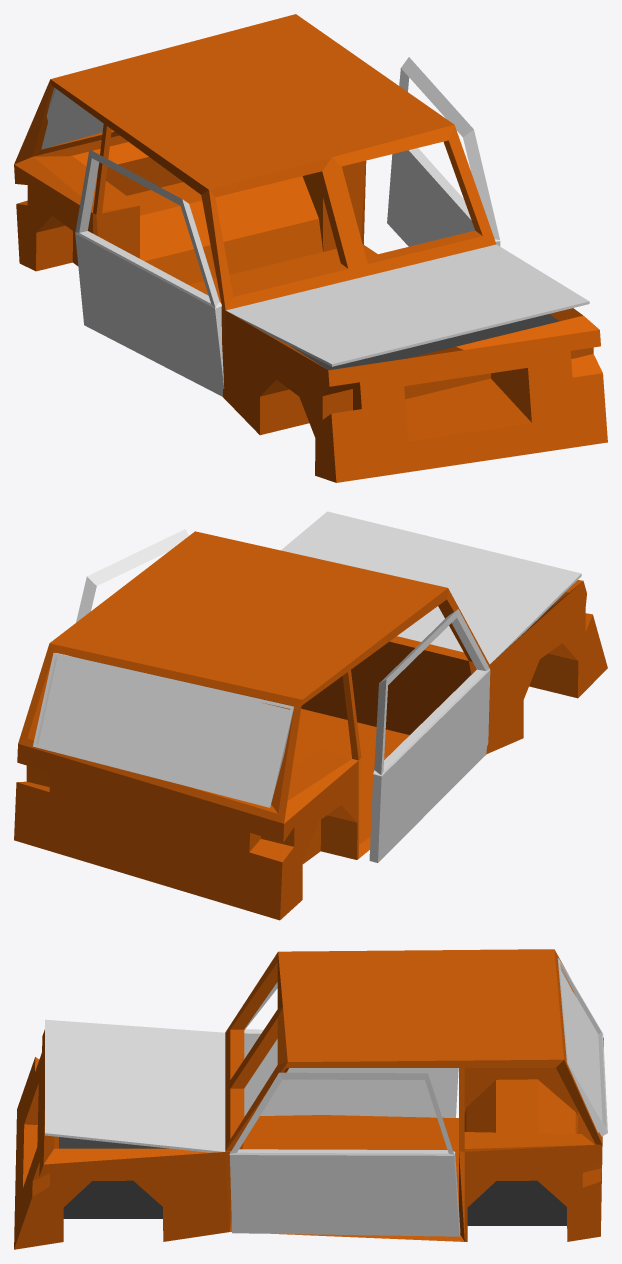
The model's file is Auto junk.fbx.
The picture shows the model from 3 angles, top to bottom: view 1: azimuth 30°, elevation 25°; view 2: azimuth 150°, elevation 25°; view 3: azimuth 270°, elevation 25°; orthographic projection. The views are drawn at different scales.
Parts seen in each view (by area): view 1: Cube.010, Cube.014, Cube.012, Cube.011, Cube.013; view 2: Cube.010, Cube.013, Cube.014, Cube.012, Cube.011; view 3: Cube.010, Cube.011, Cube.014, Cube.012, Cube.013.
Part boxes in pixels (box(x1,y1,x2,y2)): Cube.010: box(14, 14, 607, 482); Cube.014: box(226, 244, 589, 366); Cube.012: box(75, 149, 224, 396); Cube.011: box(387, 57, 500, 246); Cube.013: box(41, 87, 103, 149); Cube.010: box(14, 531, 607, 920); Cube.013: box(33, 652, 293, 807); Cube.014: box(281, 511, 581, 664); Cube.012: box(369, 609, 490, 862); Cube.011: box(68, 529, 188, 656); Cube.010: box(14, 949, 603, 1249); Cube.011: box(229, 1072, 460, 1236); Cube.014: box(45, 1019, 225, 1152); Cube.012: box(244, 982, 458, 1117); Cube.013: box(557, 958, 607, 1136).
Bounding box in the file's own units: 860 × 533 × 1512.
